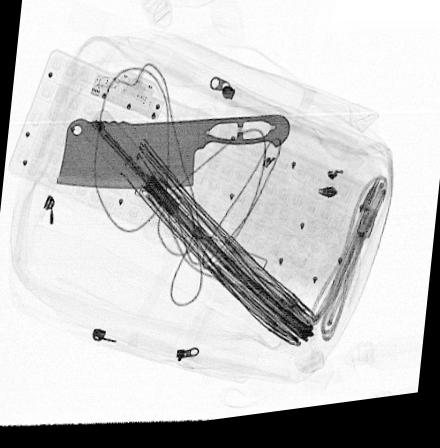Knife: (56, 120, 292, 192)
